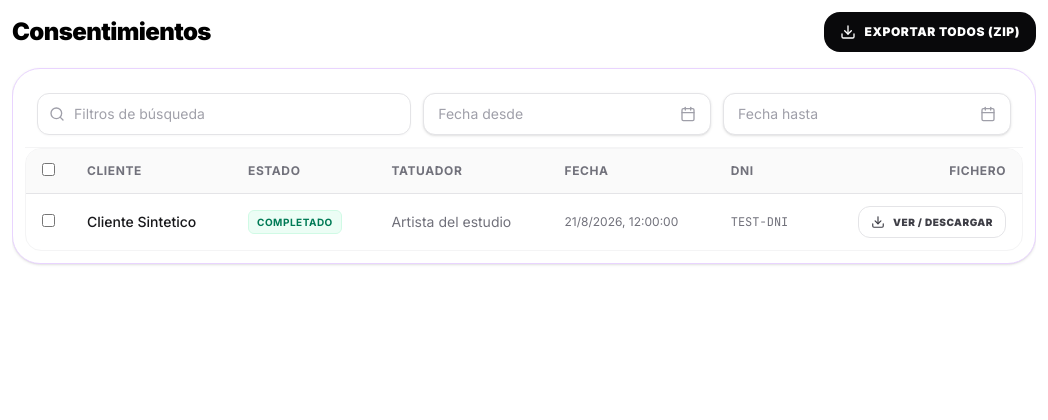
ConsentsManager truthful ZIP export › refuses zero-success exports without false download and preserves a retryable selection
This screenshot has width=1048, height=420.
Step 1. Click the checkbox next to "Cliente Sintetico" → (48, 221), box [42, 214, 55, 227]
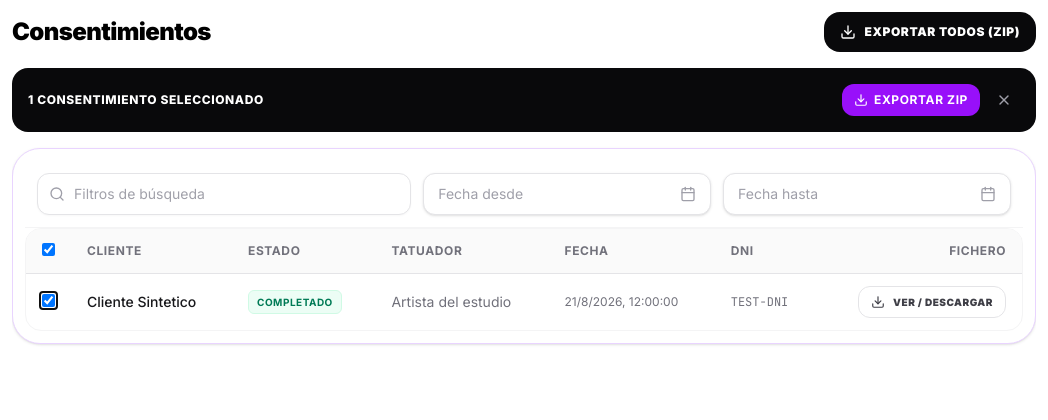
Step 2. Click the button "Exportar ZIP" → (911, 100), box [842, 84, 980, 116]
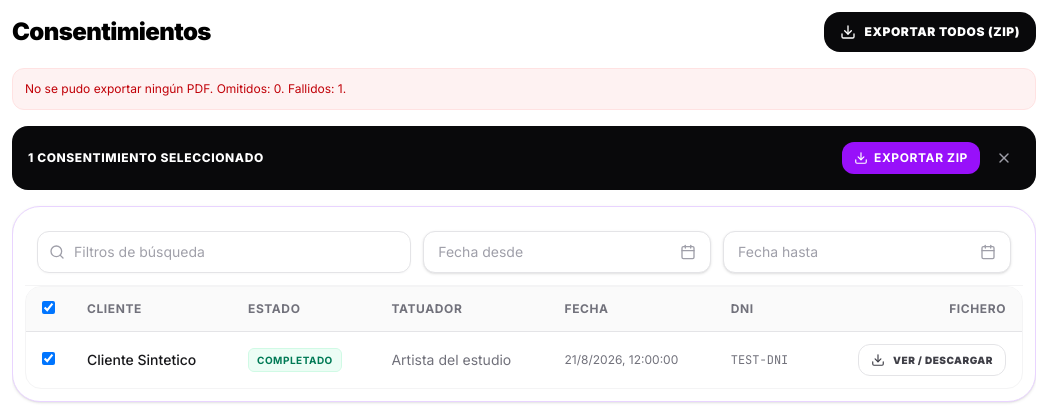
Expected: the text "1 consentimiento seleccionado" is shown, [28, 150, 264, 166]
Expected: the text "No se pudo exportar ningún PDF. Omitidos: 0. Fallidos: 1." is shown, [12, 68, 1036, 110]
